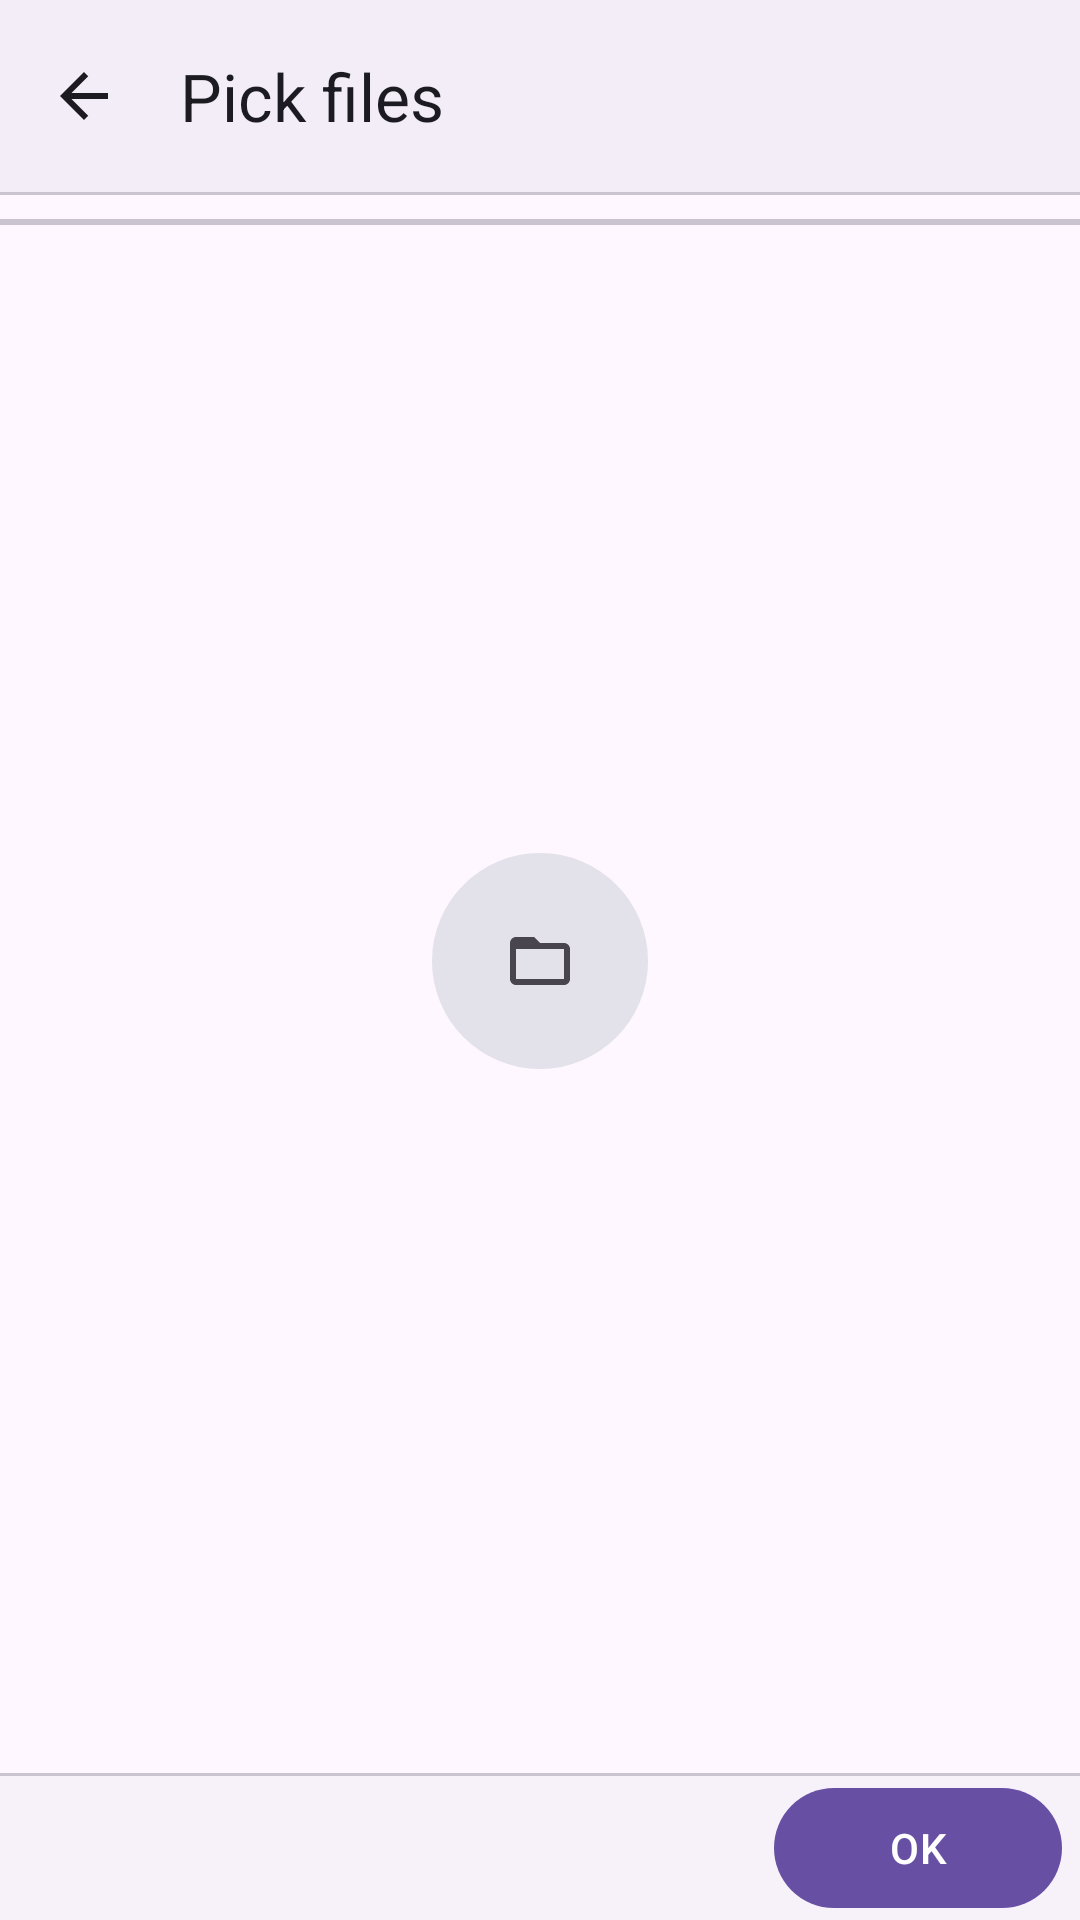

Icon bounding boxes for this 1080x1920 phone screenshot, format [left=x1, top=y1, right=x2, bottom=y2]:
folder open: [left=510, top=937, right=570, bottom=985]
